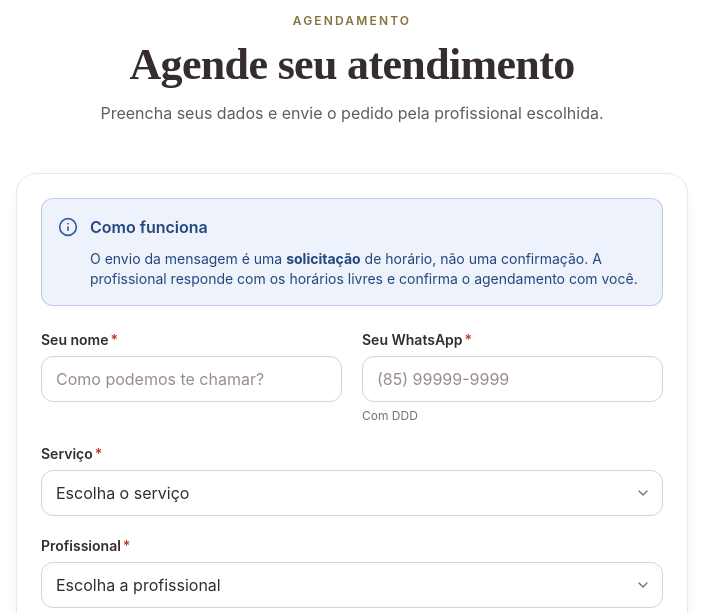
Test: BookingSection › aplica a máscara de telefone durante a digitação
Step 1. Type "85991234567" into the field labelled "Seu WhatsApp*" → (512, 379), box [362, 356, 663, 402]
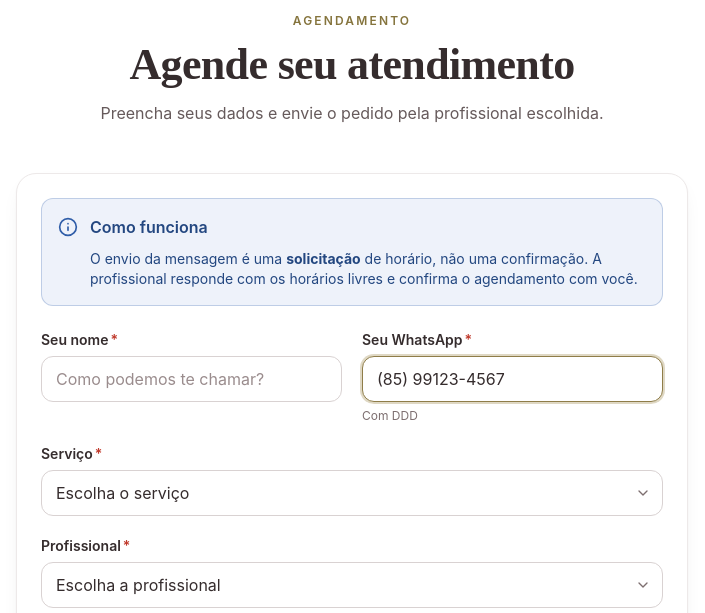
Check: the field labelled "Seu WhatsApp*" holds "(85) 99123-4567", box [362, 356, 663, 402]
